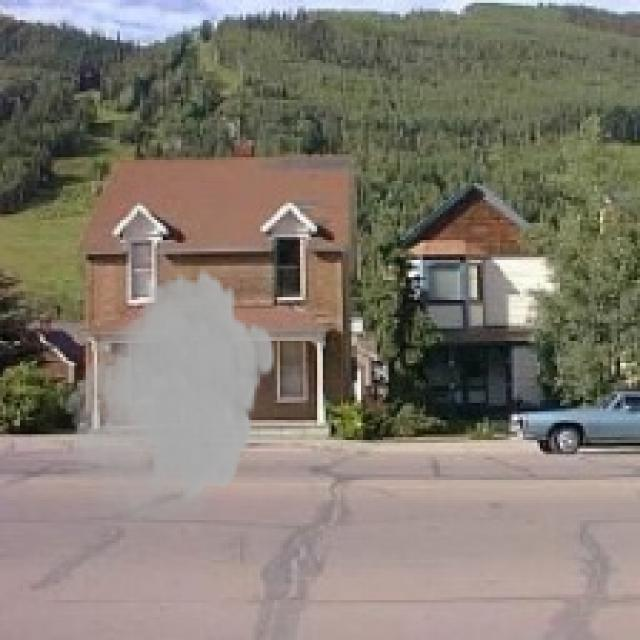smoke: (57, 266, 277, 520)
